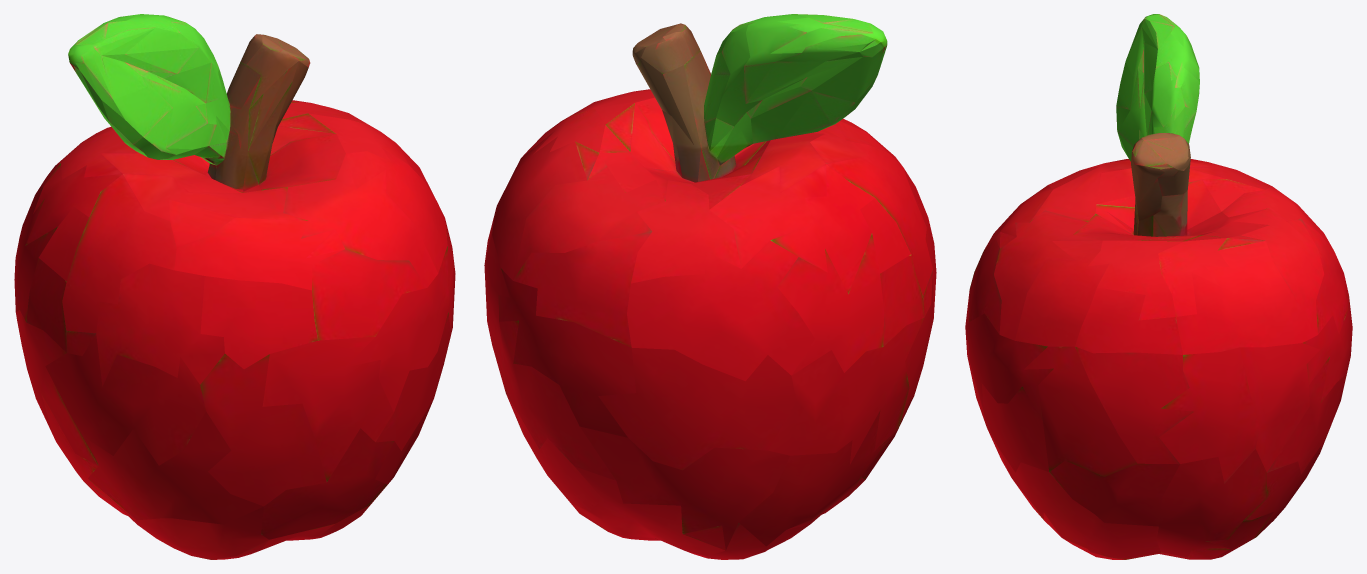
Rendered from apple.glb.
The picture shows the model from 3 angles, left to right: view 1: azimuth 30°, elevation 25°; view 2: azimuth 150°, elevation 25°; view 3: azimuth 270°, elevation 25°; orthographic projection. The views are drawn at different scales.
Size of the model in its own units: 1.44 by 1.9 by 1.45.
Materials: 1 (1 with a texture image).
